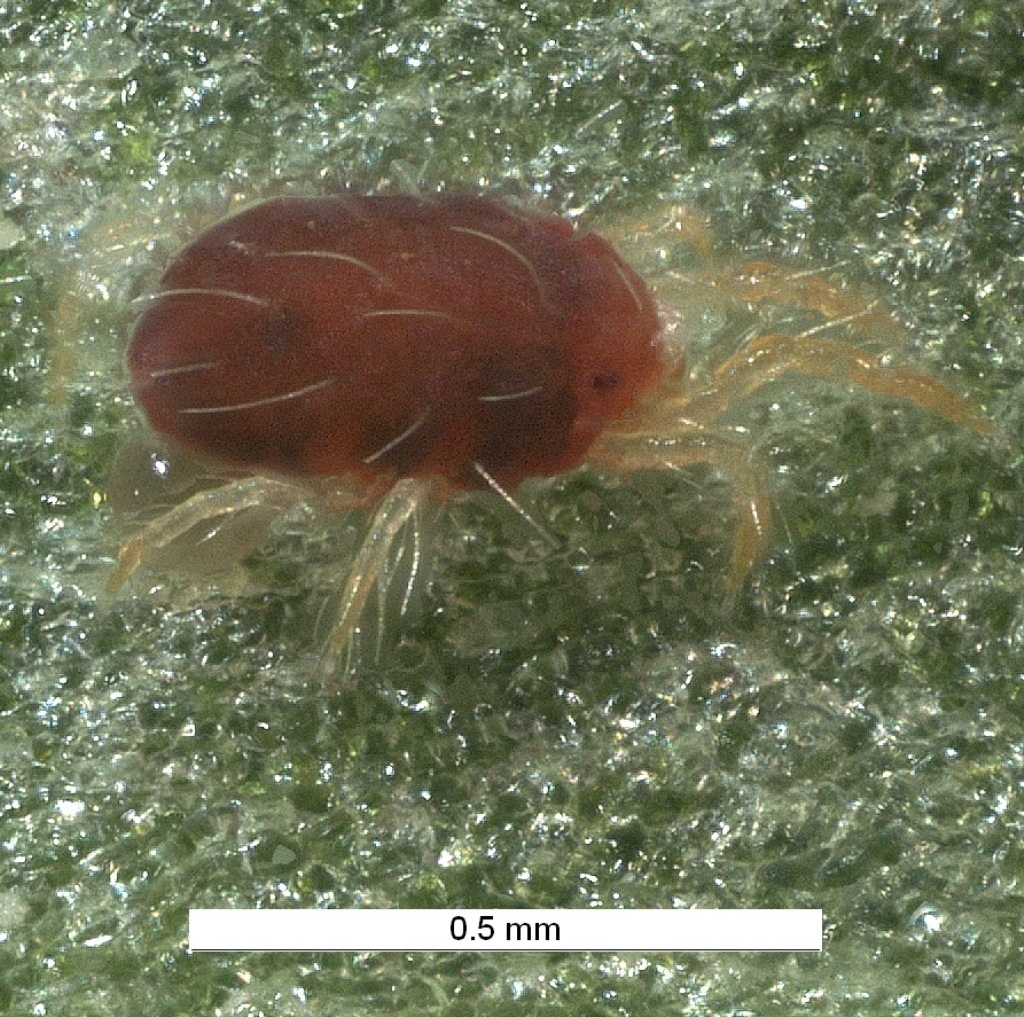Mites: (45, 168, 978, 721)
